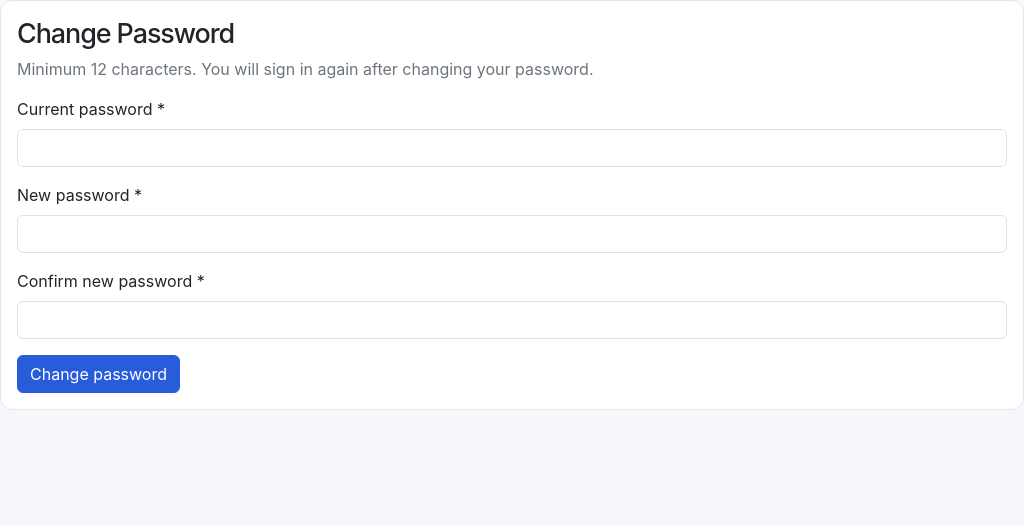
Scenario: shows safe backend errors and clears password input state
This screenshot has width=1024, height=525.
Type "old-safe-passphrase" into the password field labelled "Current password *" at (512, 148), box [17,129,1007,167]
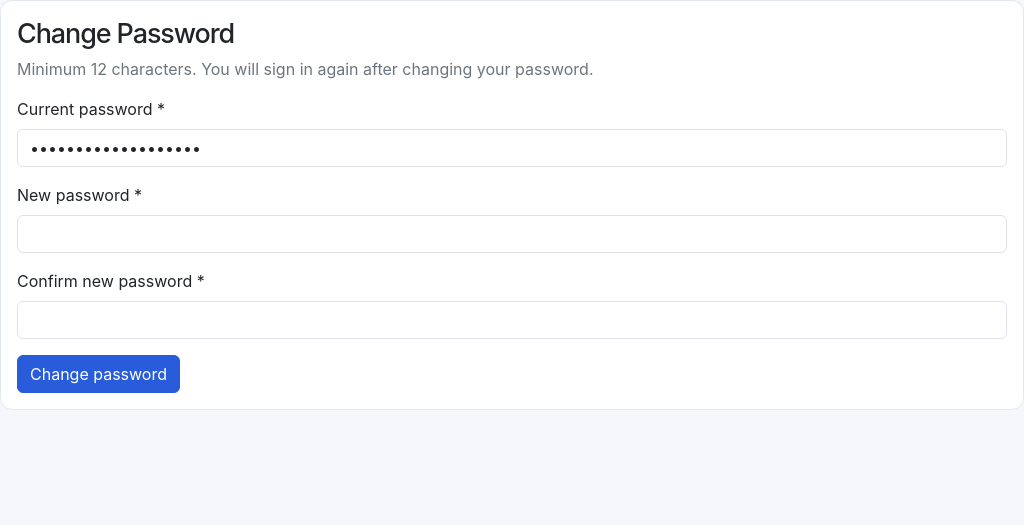
Type "new-safe-passphrase" into the password field labelled "New password *" at (512, 234), box [17,215,1007,253]
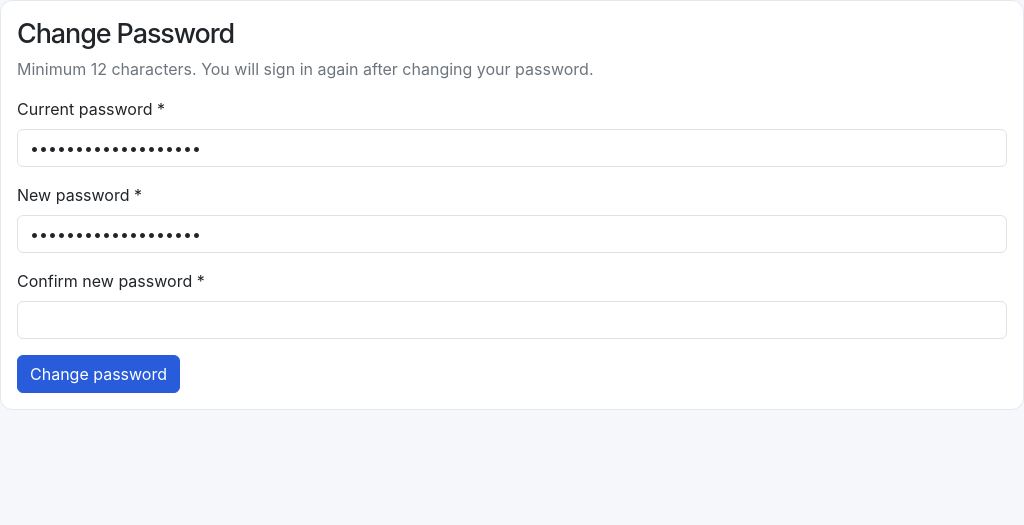
Type "new-safe-passphrase" into the password field labelled "Confirm new password *" at (512, 320), box [17,301,1007,339]
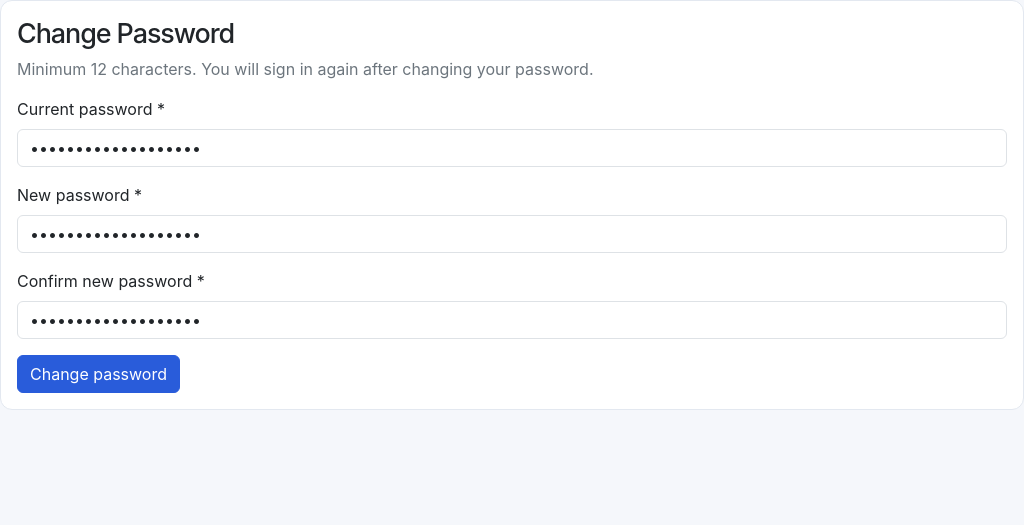
Click the button "Change password" at (98, 374), box [17,355,180,393]
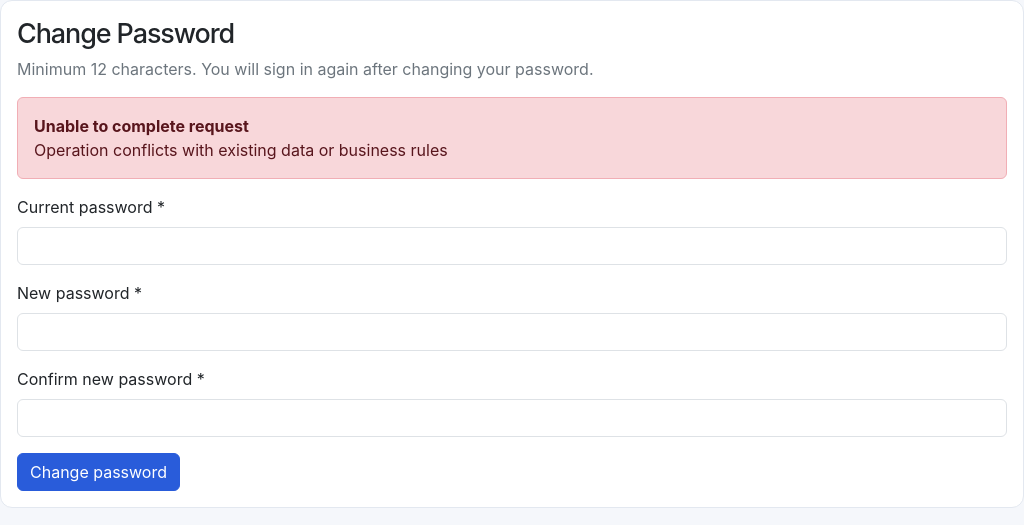
Expected: the text "Operation conflicts with existing data or business rules" is shown, [34,140,448,160]
Expected: the password field labelled "Current password *" is empty, [17,227,1007,265]
Expected: the password field labelled "New password *" is empty, [17,313,1007,351]
